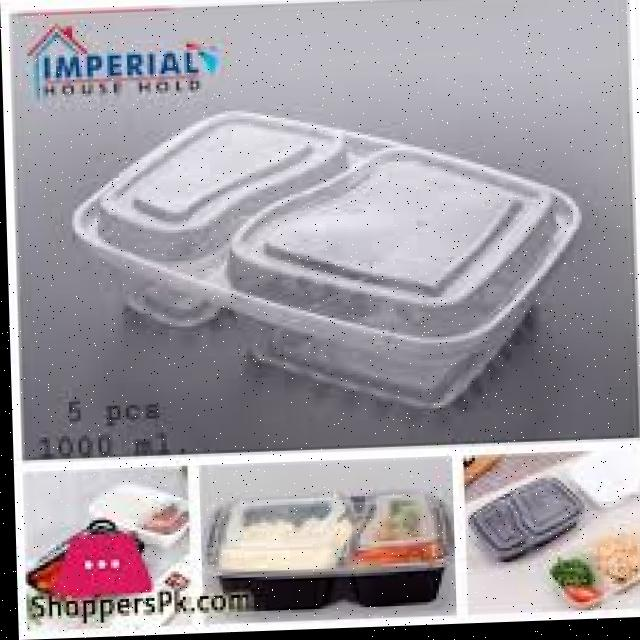disposable: (64, 84, 588, 433)
